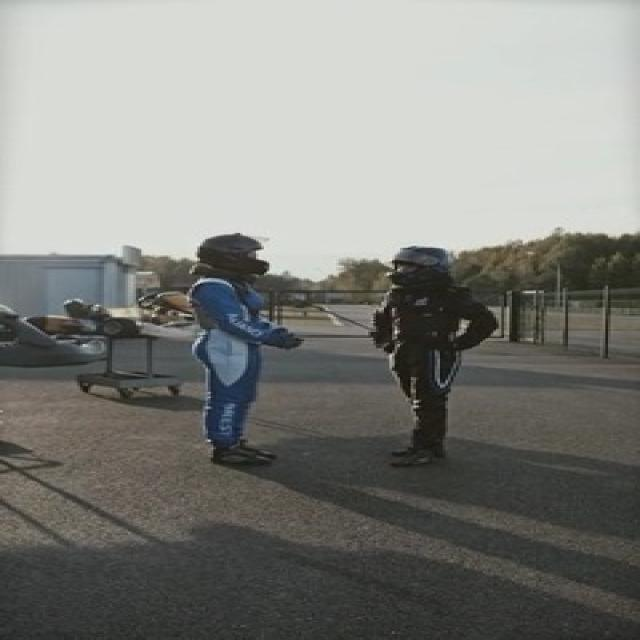Helmet_Wearer: (187, 232, 282, 278), (385, 244, 464, 286)
Jacket_Wearer: (376, 283, 501, 350)
Person: (180, 231, 302, 468), (374, 243, 503, 457)
